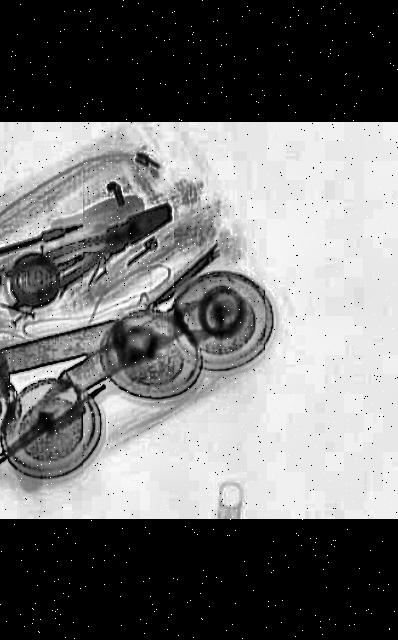Pliers: (0, 190, 194, 308)
